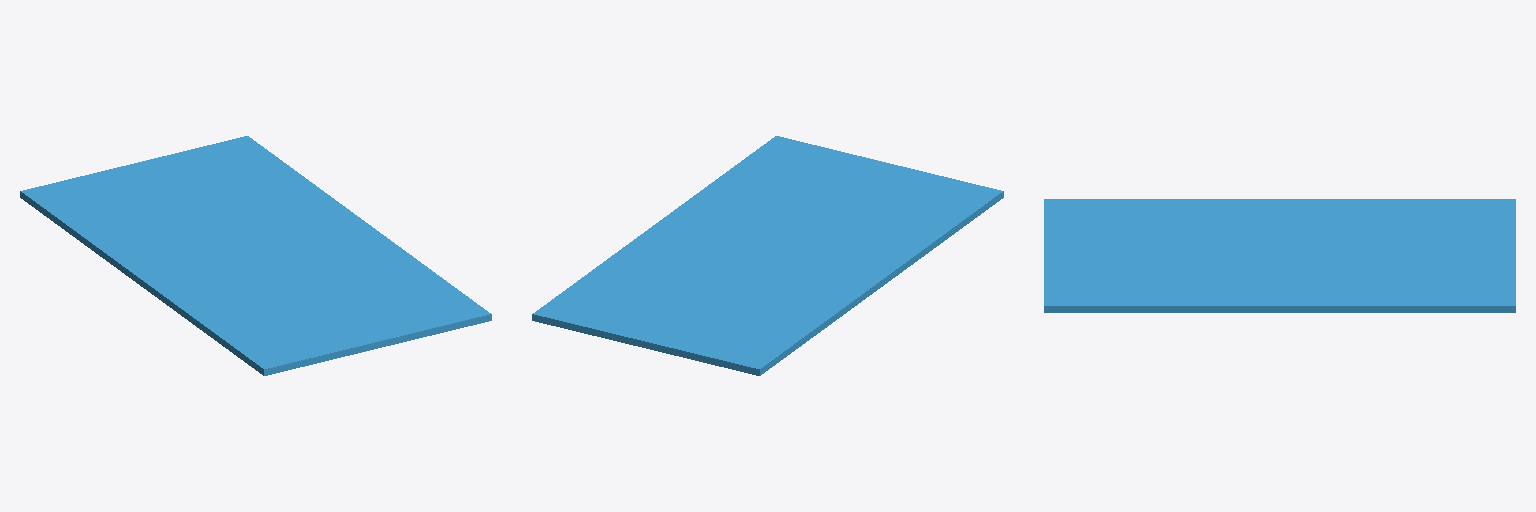
robot.urdf — tabletop:
<robot name="tabletop">
  <link name="world"/>
  <link name="tabletop">
    <visual>
      <geometry>
        <box size="0.35 0.65 0.01"/>
      </geometry>
      <origin xyz="0.175 0.0 0.175" rpy="0 0 0"/>
    </visual>
    <collision>
    <origin xyz="0.175 0.0 0.175" rpy="0 0 0"/>
      <geometry>
        <box size="0.35 0.65 0.01"/>
      </geometry>
    </collision>
  </link>
  <joint name="tabletop_joint" type="fixed">
    <parent link="world"/>
    <child link="tabletop"/>
    <origin xyz="0.175 0.0 0.175" rpy="0 0 0"/>
  </joint>
</robot>

--- What the picture shows (computed from the rendered views, not written in the file) ---
Views: 3 orthographic renders of the robot side by side, from view 1: azimuth 30°, elevation 25°; view 2: azimuth 150°, elevation 25°; view 3: azimuth 270°, elevation 25°.
Model tabletop with 2 links and 1 joints (1 fixed), rooted at world, posed every joint at zero.
Links seen in each view (by area): view 1: tabletop; view 2: tabletop; view 3: tabletop.
Link boxes in pixels (bbox=[...]): tabletop: bbox=[20, 136, 491, 375]; tabletop: bbox=[532, 136, 1003, 375]; tabletop: bbox=[1044, 199, 1515, 312].
Size in the robot's own frame: 0.35 by 0.65 by 0.01 metres.
Geometry: primitives only (box / cylinder / sphere), no mesh files.